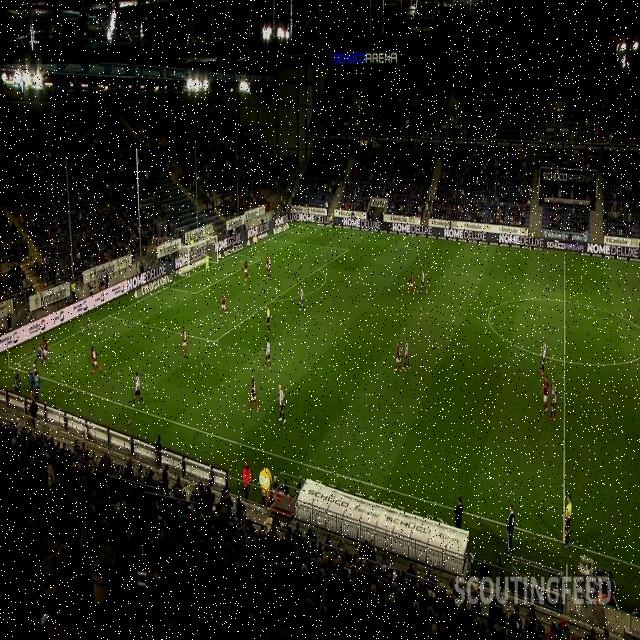Ball: (32, 362, 36, 368)
Corner: (4, 339, 14, 369), (299, 208, 303, 224)
GoalKeeper: (204, 250, 212, 278)
Referee: (564, 494, 572, 549), (266, 304, 272, 332), (329, 214, 333, 230)
TEAM 1: (540, 374, 550, 416), (248, 378, 260, 412), (90, 346, 102, 374), (393, 341, 403, 373), (42, 334, 49, 364), (182, 326, 188, 356), (408, 271, 414, 295), (221, 292, 227, 316), (244, 258, 248, 282)
TEAM 2: (132, 370, 145, 408), (548, 382, 558, 420), (277, 383, 286, 424), (403, 336, 411, 369), (263, 338, 271, 370), (298, 285, 306, 313), (540, 338, 546, 375), (35, 343, 45, 365), (420, 270, 428, 292), (267, 257, 272, 279)
